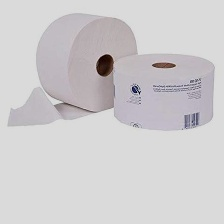tissue: (1, 6, 143, 131), (107, 46, 220, 136)
